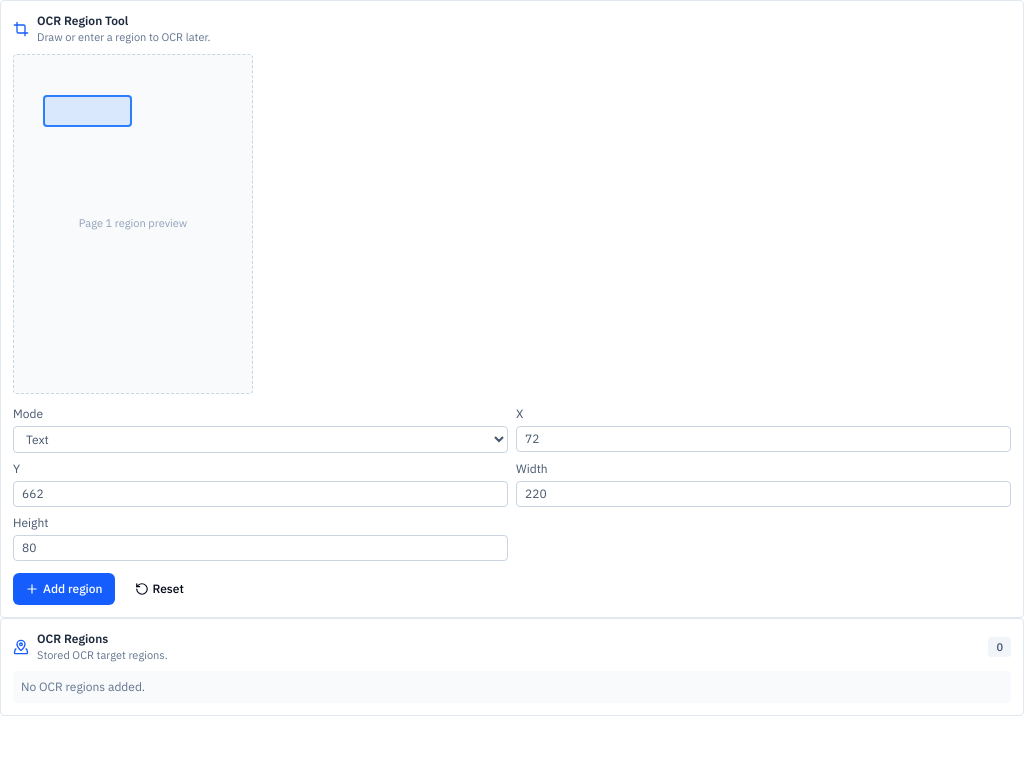
OcrRegionTool › shows validation error for out-of-page region
Replace the text in the number field with test id "ocr-region-x" with "590" at (764, 438), box [516,426,1011,452]
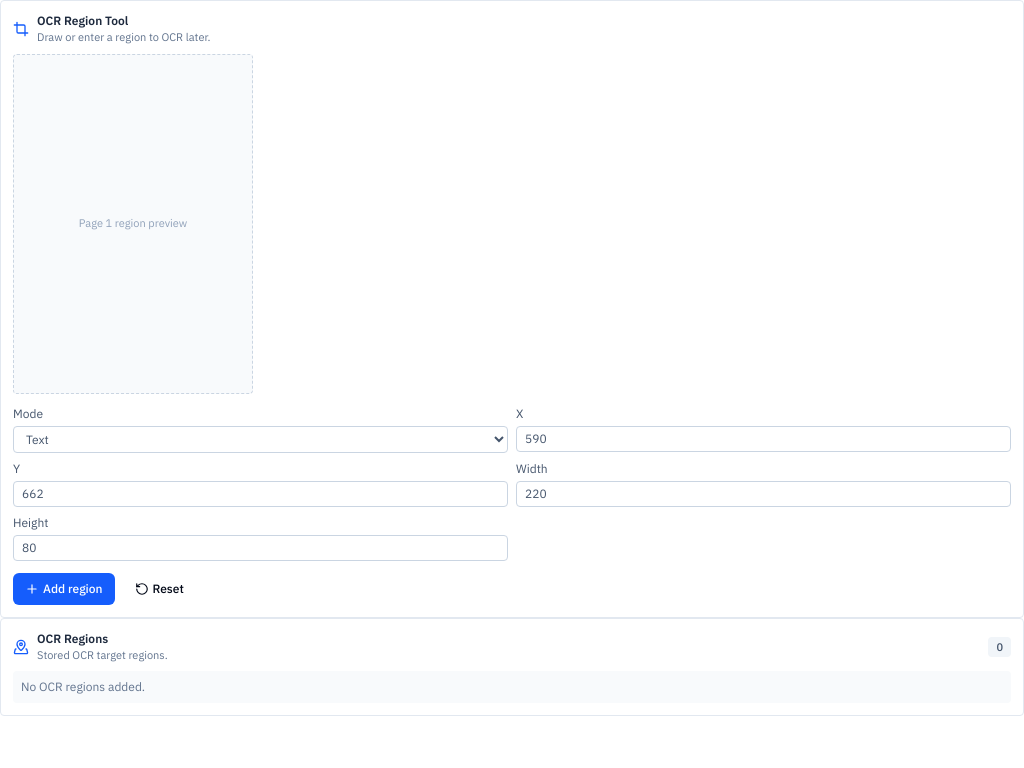
Replace the text in the number field with test id "ocr-region-width" with "100" at (764, 494), box [516,480,1011,506]
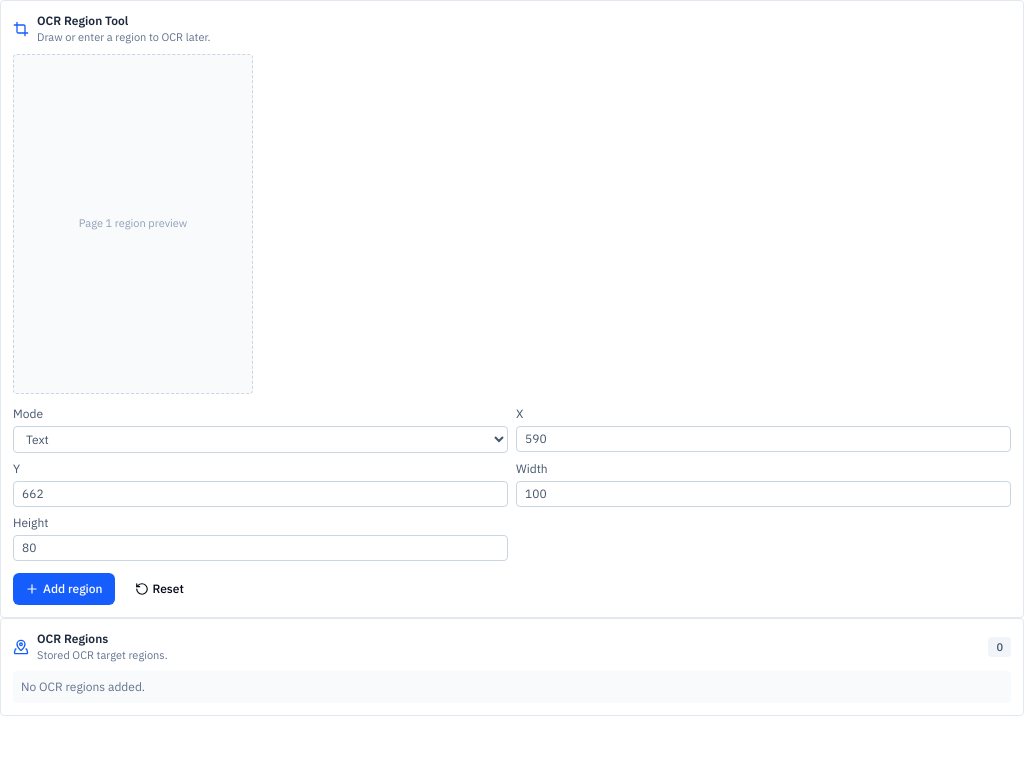
Click the button with test id "ocr-region-add".
click(64, 588)  # box [13,572,114,604]
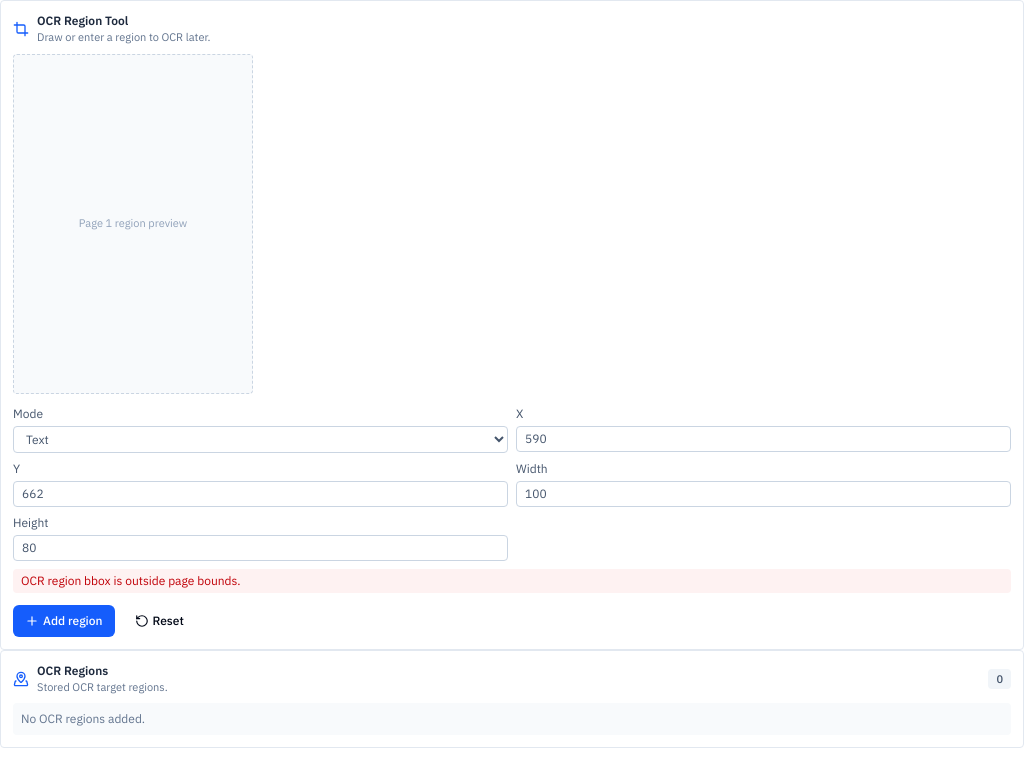
Result: the text "OCR region bbox is outside page bounds." is shown at [13,568,1011,592]
